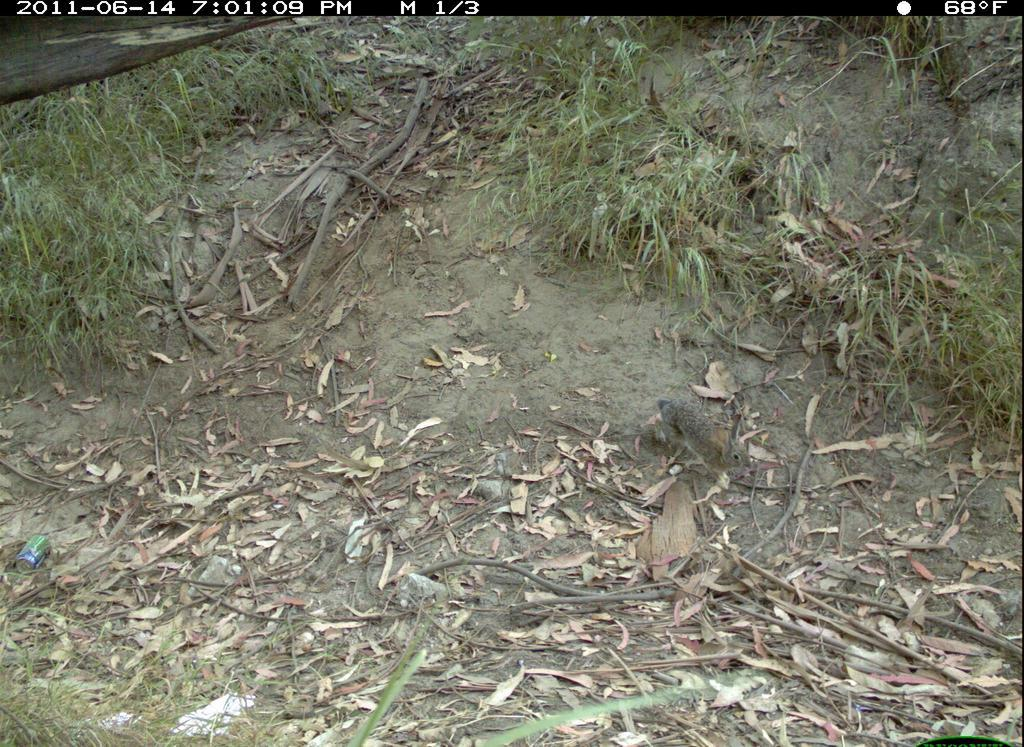rabbit: (646, 392, 760, 495)
